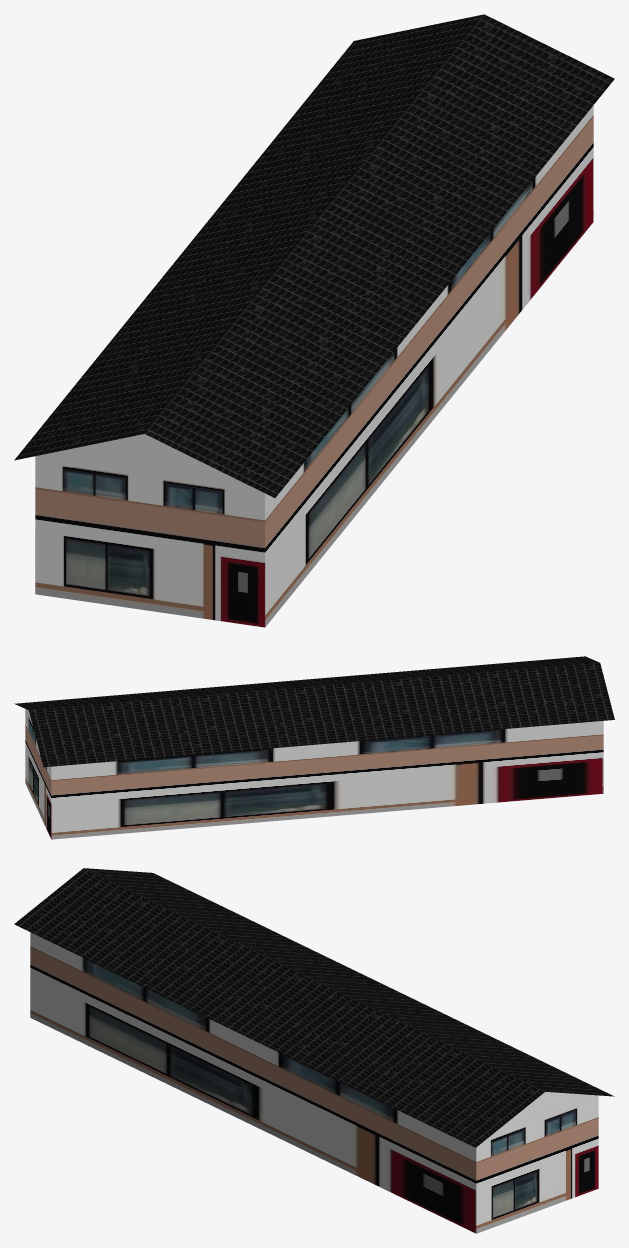
3 renders of one model, top to bottom at view 1: azimuth 30°, elevation 25°; view 2: azimuth 150°, elevation 25°; view 3: azimuth 270°, elevation 25°, orthographic. The views are drawn at different scales.
Visible parts, largest first — view 1: CityEngineMaterial_14_m, CityEngineMaterial_5_m, CityEngineMaterial_3_m; view 2: CityEngineMaterial_5_m, CityEngineMaterial_14_m; view 3: CityEngineMaterial_14_m, CityEngineMaterial_5_m, CityEngineMaterial_3_m.
Part boxes in pixels (x1,y1,x2,y2): CityEngineMaterial_14_m: (14, 14, 614, 497); CityEngineMaterial_5_m: (35, 105, 593, 627); CityEngineMaterial_3_m: (53, 434, 235, 479); CityEngineMaterial_5_m: (25, 709, 603, 839); CityEngineMaterial_14_m: (14, 656, 614, 767); CityEngineMaterial_14_m: (14, 868, 614, 1147); CityEngineMaterial_5_m: (30, 932, 598, 1233); CityEngineMaterial_3_m: (500, 1091, 590, 1128).
Size of the model in its own units: 54.94 by 11.48 by 50.74.
